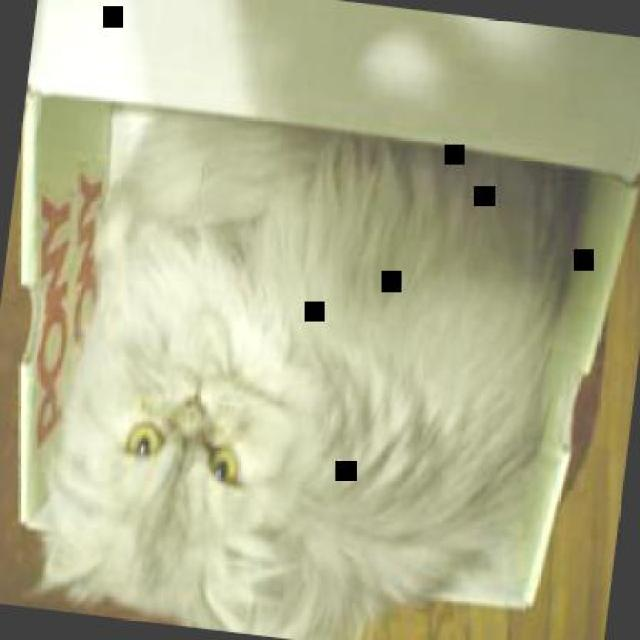cat: (34, 94, 588, 638)
